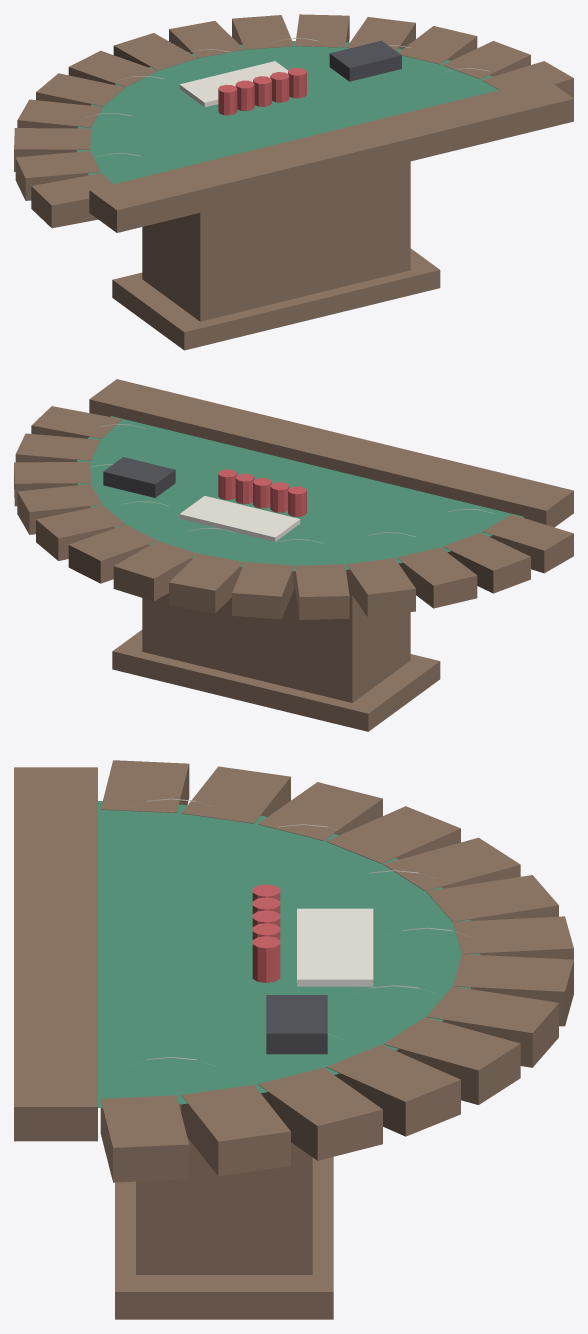
Rendered from casBlackjack.glb.
3 views of the same model, one above another, from view 1: azimuth 30°, elevation 25°; view 2: azimuth 150°, elevation 25°; view 3: azimuth 270°, elevation 25° (orthographic). The views are drawn at different scales.
Parts seen in each view (by area): view 1: blackjack-table; view 2: blackjack-table; view 3: blackjack-table.
Boxes of the visible parts, x1,y1,x2,y2 form: blackjack-table: (14, 14, 573, 350); blackjack-table: (14, 379, 573, 731); blackjack-table: (14, 760, 573, 1319).
Size of the model in its own units: 2.4 by 0.8899 by 1.46.
